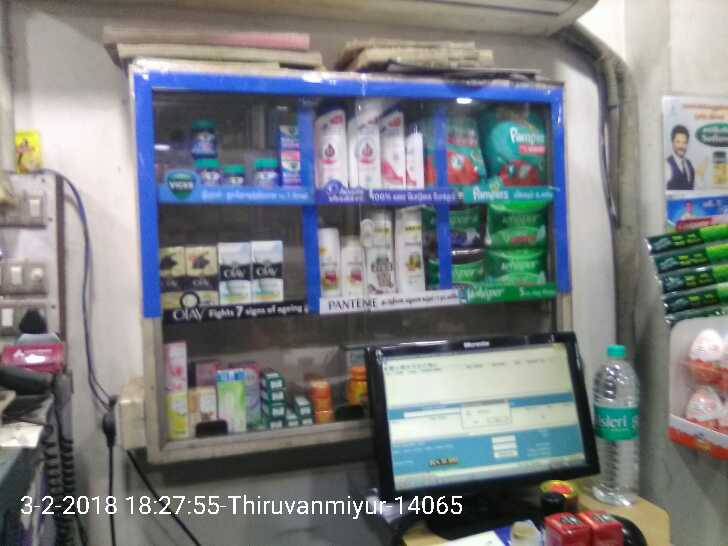vicks: (193, 122, 302, 188)
